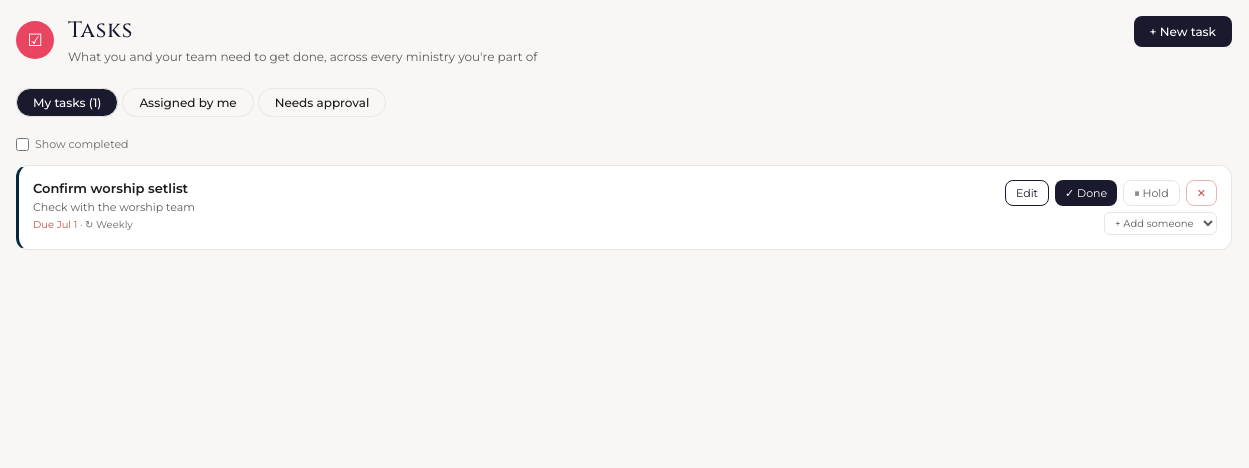
clicking a task opens an edit form pre-filled with its current details
Click the text "Confirm worship setlist". click: (111, 188)
box: [33, 180, 188, 196]
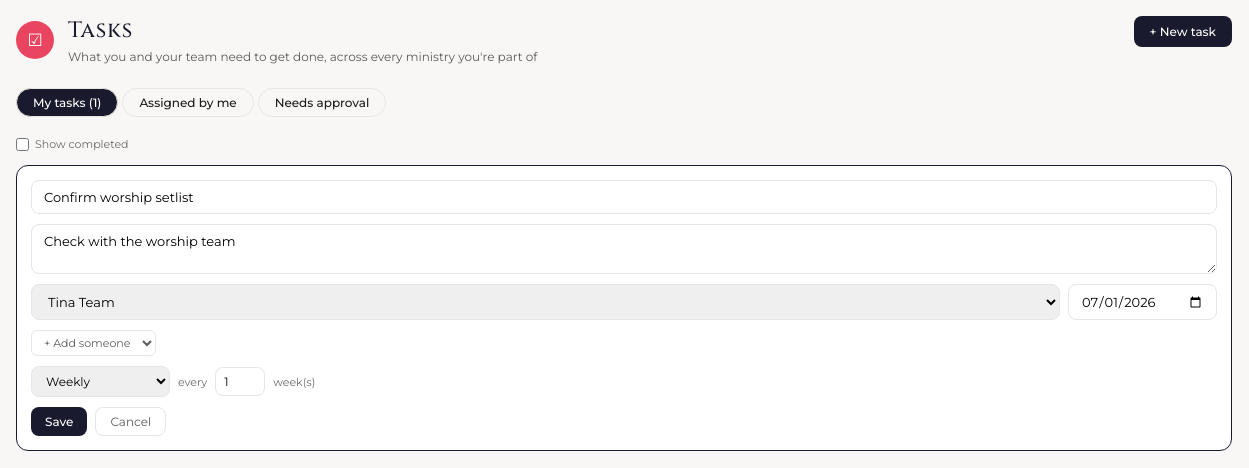
Now the field showing "Confirm worship setlist" is shown, box [31, 180, 1217, 214]
Now the text box showing "Check with the worship team" is shown, box [31, 224, 1217, 274]
Now the date field showing "2026-07-01" is shown, box [1068, 284, 1217, 320]
